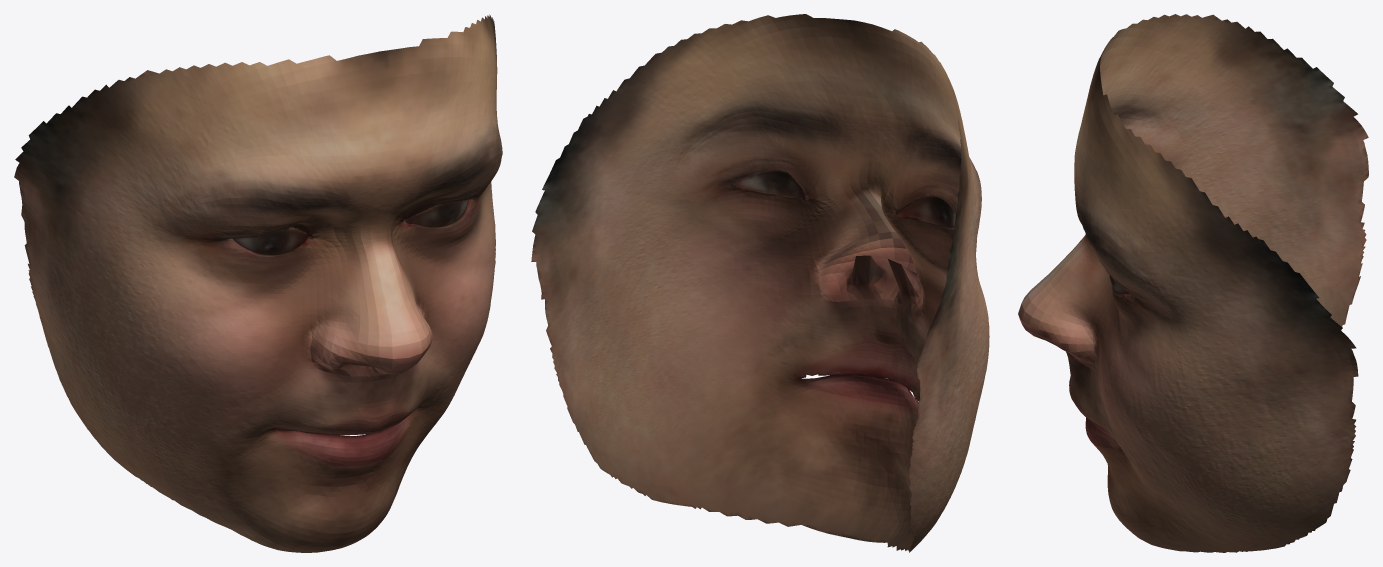
File: 3DDFAV3.obj
3 renders of one model, left to right at view 1: azimuth 30°, elevation 25°; view 2: azimuth 150°, elevation 25°; view 3: azimuth 270°, elevation 25°, orthographic. The views are drawn at different scales.
Size of the model in its own units: 1.44 by 1.64 by 1.08.
